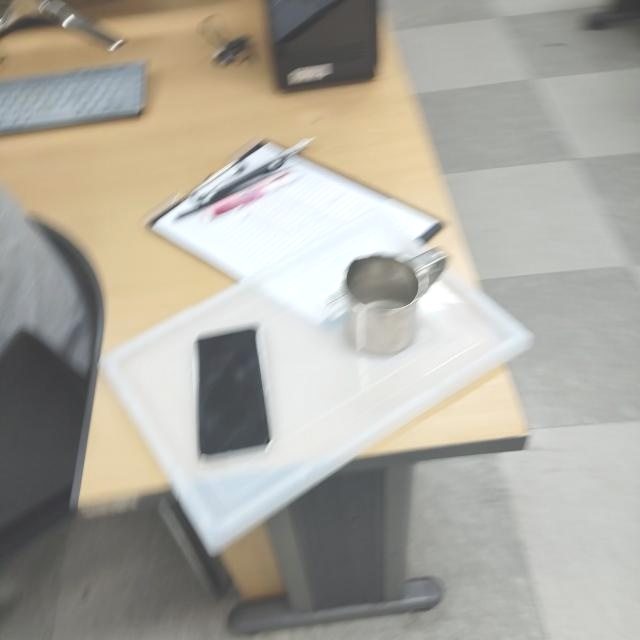cup: (342, 242, 451, 361)
phone: (191, 322, 274, 465)
